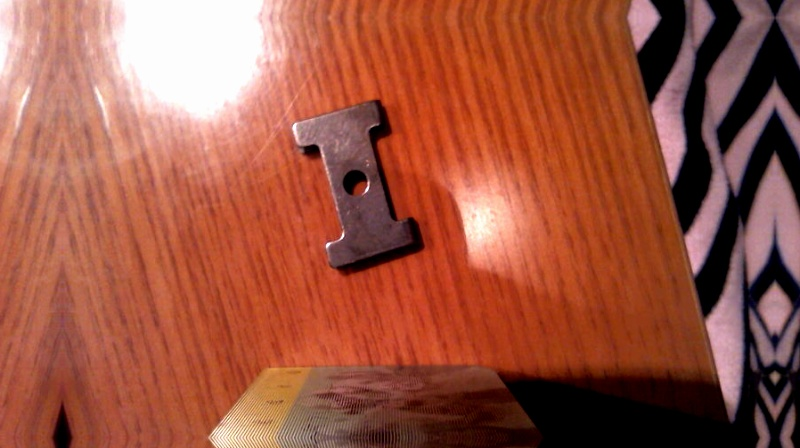O002: (290, 98, 423, 271)
